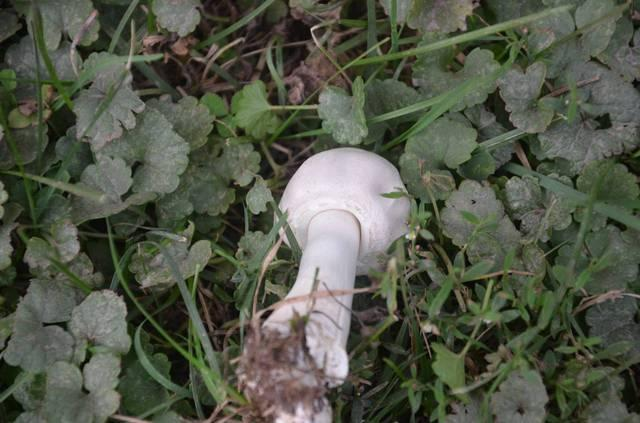Non-edible Mushroom: (259, 145, 413, 390)
